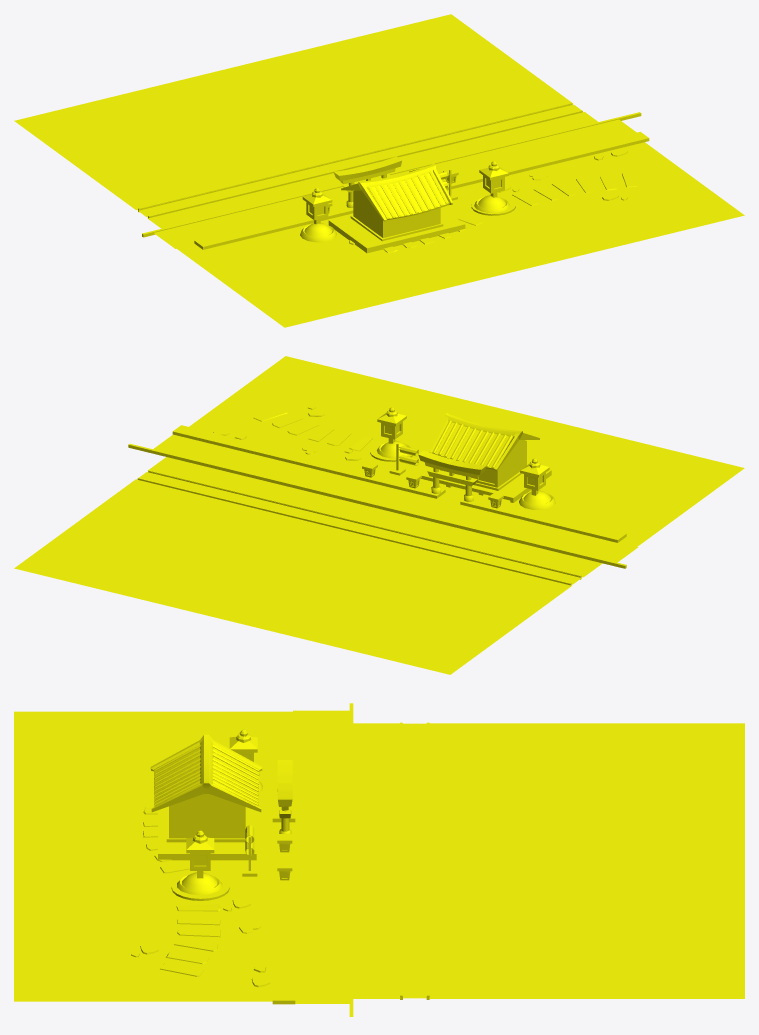
3 renders of one model, top to bottom at view 1: azimuth 30°, elevation 25°; view 2: azimuth 150°, elevation 25°; view 3: azimuth 270°, elevation 25°, orthographic. The views are drawn at different scales.
Parts seen in each view (by area): view 1: pasted__Plane.011, Block_001; view 2: pasted__Plane.011, Block_001; view 3: pasted__Plane.011, Block_001.
Part boxes in pixels (x1,y1,x2,y2): pasted__Plane.011: [14, 14, 597, 228]; Block_001: [142, 112, 744, 327]; pasted__Plane.011: [14, 457, 602, 674]; Block_001: [128, 356, 744, 568]; pasted__Plane.011: [353, 722, 744, 999]; Block_001: [14, 703, 353, 1016].
Size of the model in its own units: 69.95 by 8.01 by 68.86.
Materials: 3 (3 with a texture image).
